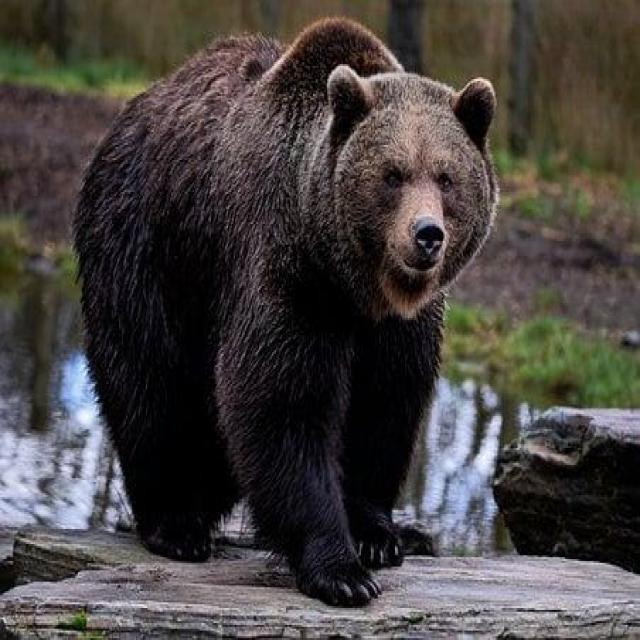Bear: (72, 17, 500, 610)
